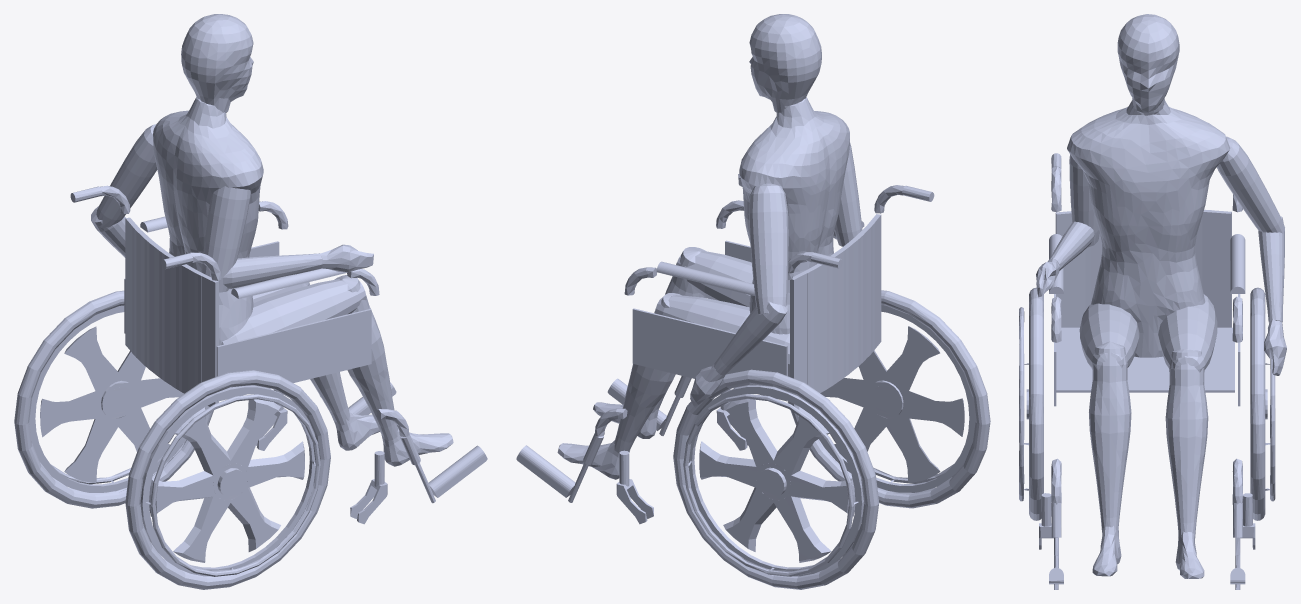
The model's file is wheelchair.rounded.dae.
3 renders of one model, left to right at view 1: azimuth 30°, elevation 25°; view 2: azimuth 150°, elevation 25°; view 3: azimuth 270°, elevation 25°, orthographic.
Visible parts, largest first — view 1: base_link; view 2: base_link; view 3: base_link.
Boxes of the visible parts, x1,y1,x2,y2 form: base_link: (14,14,487,589); base_link: (516,14,990,589); base_link: (1019,14,1286,589).
Bounding box in the file's own units: 1.08 × 0.6838 × 1.45.
